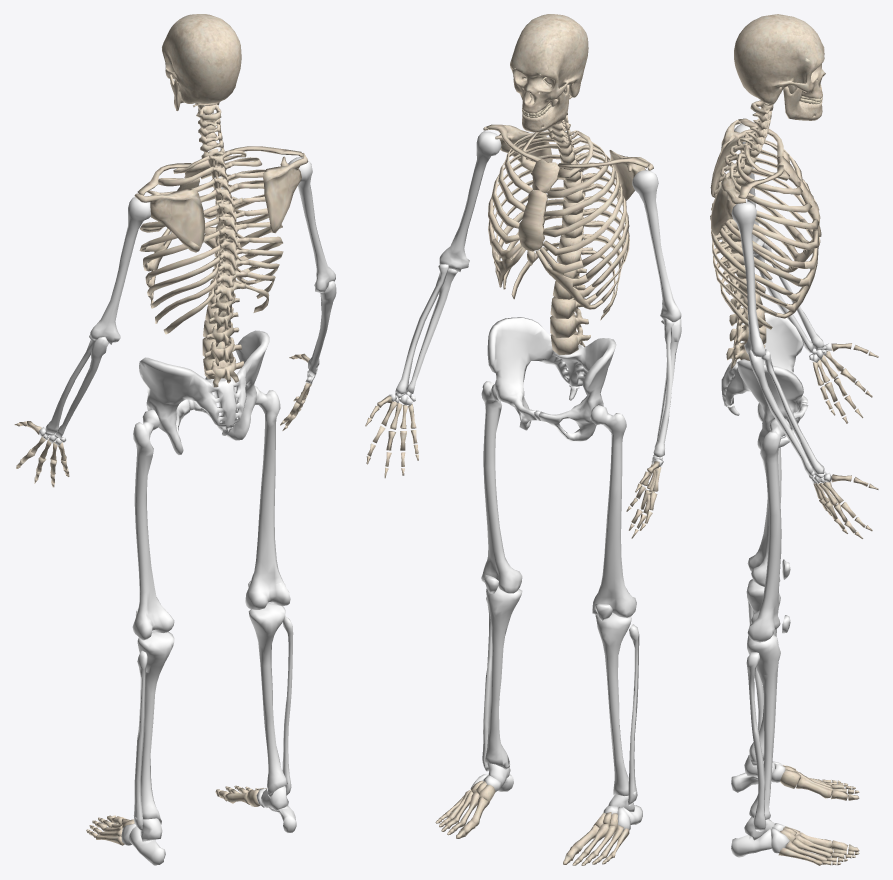
The model's file is Skeleton Combined.fbx.
3 renders of one model, left to right at view 1: azimuth 30°, elevation 25°; view 2: azimuth 150°, elevation 25°; view 3: azimuth 270°, elevation 25°, orthographic.
Visible parts, largest first — view 1: Thoracic Cage, MaleSkeletalHipLeftandSacrumGeo, Spine, Skull Assets, MaleSkeletalFemurRightGeo, MaleSkeletalFemurLeftGeo, MaleSkeletalTibiaRightGeo, MaleSkeletalTibiaLeftGeo, MaleSkeletalHumerusLeftGeo, MaleSkeletalHumerusRightGeo, MaleSkeletalFibulaLeftGeo, MaleSkeletalFibulaRightGeo (+4 smaller); view 2: Thoracic Cage, MaleSkeletalHipLeftandSacrumGeo, Skull Assets, Spine, MaleSkeletalFemurLeftGeo, MaleSkeletalFemurRightGeo, MaleSkeletalTibiaRightGeo, MaleSkeletalTibiaLeftGeo, MaleSkeletalHumerusRightGeo, MaleSkeletalHumerusLeftGeo, Left Foot Metarsals, MaleSkeletalFibulaLeftGeo (+9 smaller); view 3: Thoracic Cage, Skull Assets, MaleSkeletalHipLeftandSacrumGeo, MaleSkeletalFemurRightGeo, Spine, MaleSkeletalTibiaRightGeo, MaleSkeletalHumerusRightGeo, MaleSkeletalFibulaRightGeo, MaleSkeletalUlnaRightGeo, Right Foot Metarsals, MaleSkeletalRadiusRightGeo, MaleSkeletalFemurLeftGeo (+13 smaller).
Boxes of the visible parts, box(x1,y1,x2,y2) form: Thoracic Cage: box(134, 146, 308, 334); MaleSkeletalHipLeftandSacrumGeo: box(139, 330, 269, 454); Spine: box(193, 102, 249, 387); Skull Assets: box(162, 14, 241, 110); MaleSkeletalFemurRightGeo: box(245, 386, 290, 609); MaleSkeletalFemurLeftGeo: box(132, 409, 174, 640); MaleSkeletalTibiaRightGeo: box(248, 603, 287, 798); MaleSkeletalTibiaLeftGeo: box(137, 631, 174, 824); MaleSkeletalHumerusLeftGeo: box(90, 197, 150, 344); MaleSkeletalHumerusRightGeo: box(288, 157, 335, 293); MaleSkeletalFibulaLeftGeo: box(133, 650, 147, 831); MaleSkeletalFibulaRightGeo: box(282, 616, 293, 795); Thoracic Cage: box(483, 124, 653, 320); MaleSkeletalHipLeftandSacrumGeo: box(487, 317, 616, 441); Skull Assets: box(510, 14, 588, 132); Spine: box(548, 94, 595, 355); MaleSkeletalFemurLeftGeo: box(590, 405, 636, 617); MaleSkeletalFemurRightGeo: box(481, 381, 522, 593); MaleSkeletalTibiaRightGeo: box(484, 586, 522, 769); MaleSkeletalTibiaLeftGeo: box(595, 613, 631, 795); MaleSkeletalHumerusRightGeo: box(439, 131, 501, 271); MaleSkeletalHumerusLeftGeo: box(632, 170, 681, 322); Left Foot Metarsals: box(573, 824, 629, 857); MaleSkeletalFibulaLeftGeo: box(628, 624, 639, 805); Thoracic Cage: box(710, 118, 821, 335); Skull Assets: box(734, 14, 825, 120); MaleSkeletalHipLeftandSacrumGeo: box(721, 312, 808, 449); MaleSkeletalFemurRightGeo: box(747, 419, 790, 642); Spine: box(710, 98, 773, 368); MaleSkeletalTibiaRightGeo: box(747, 634, 780, 819); MaleSkeletalHumerusRightGeo: box(731, 201, 765, 357); MaleSkeletalFibulaRightGeo: box(746, 652, 765, 831); MaleSkeletalUlnaRightGeo: box(748, 350, 812, 475); Right Foot Metarsals: box(778, 832, 833, 865); MaleSkeletalRadiusRightGeo: box(761, 349, 824, 473); MaleSkeletalFemurLeftGeo: box(747, 447, 781, 586).
Bounding box in the file's own units: 799 × 2177 × 413.
